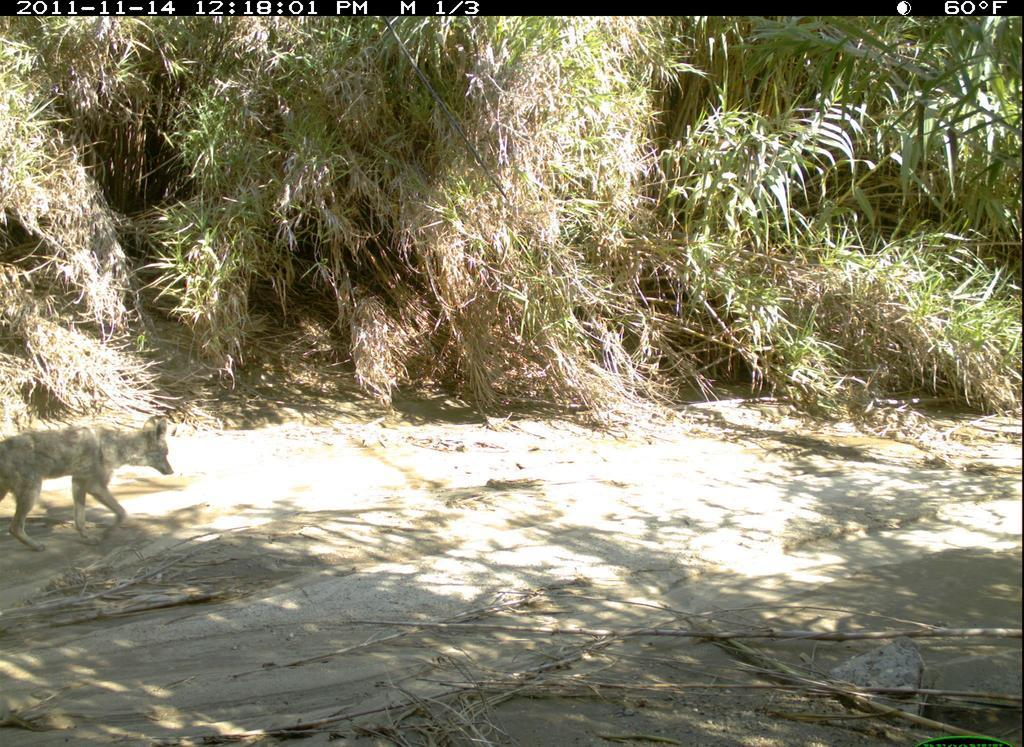coyote: (2, 411, 187, 557)
